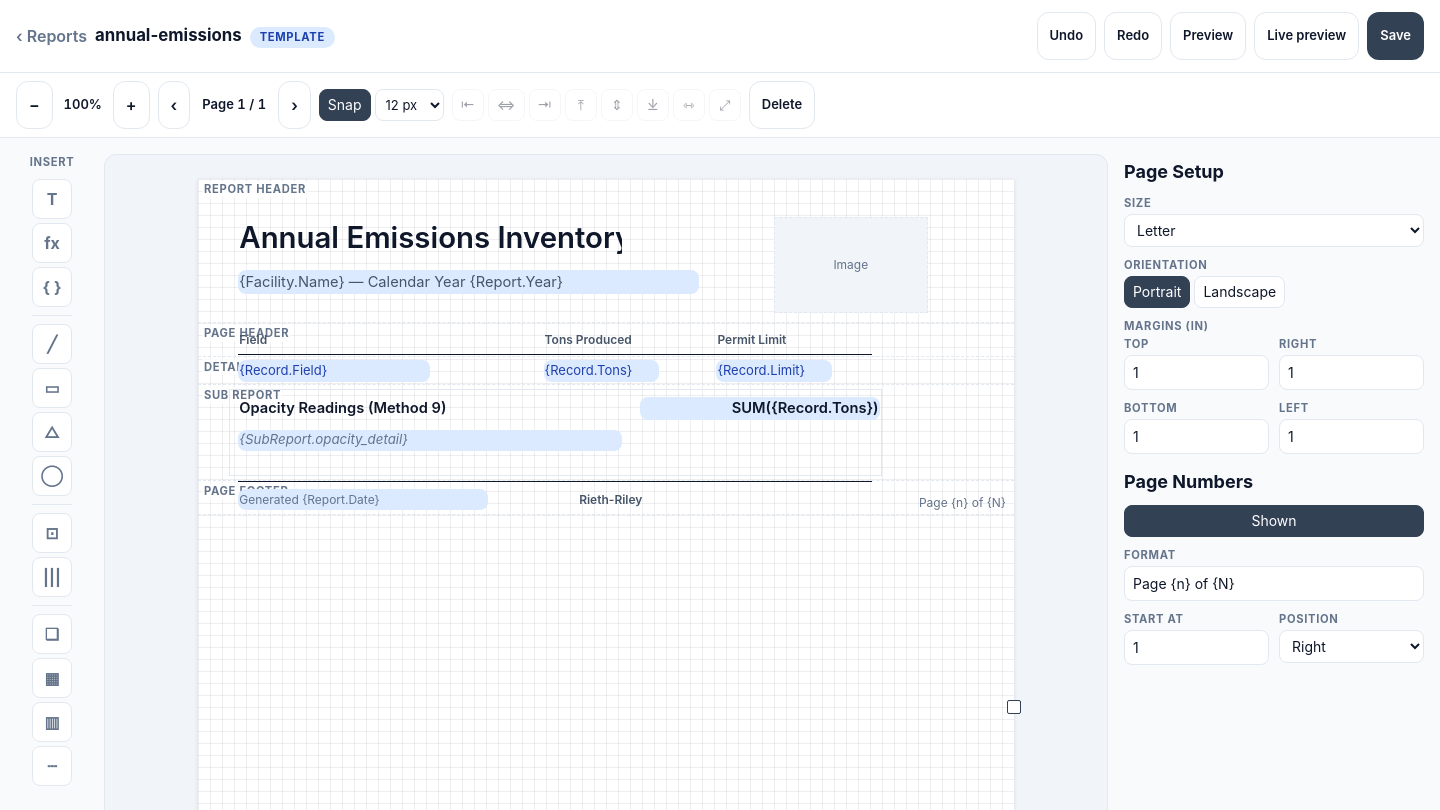
Test: ReportBuilderScreen — editing (Phase 4) › edits the selected element text and reflects it on the canvas
Click the button "Annual Emissions Inventory" at (430, 238), box x1=238 y1=221 x2=622 y2=254
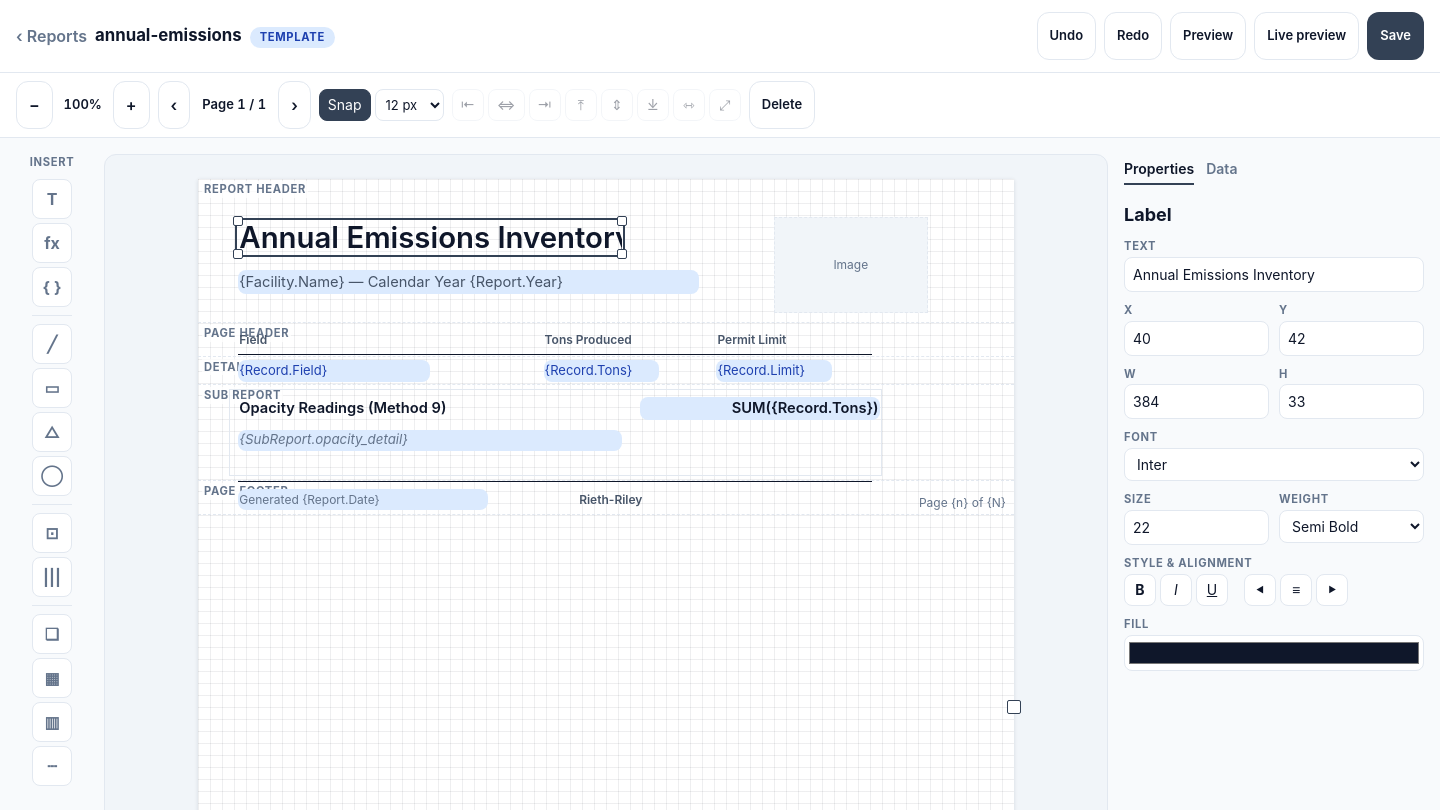
Replace the text in the field labelled "Text" with "Quarterly Report" at (1274, 274), box x1=1124 y1=257 x2=1424 y2=292
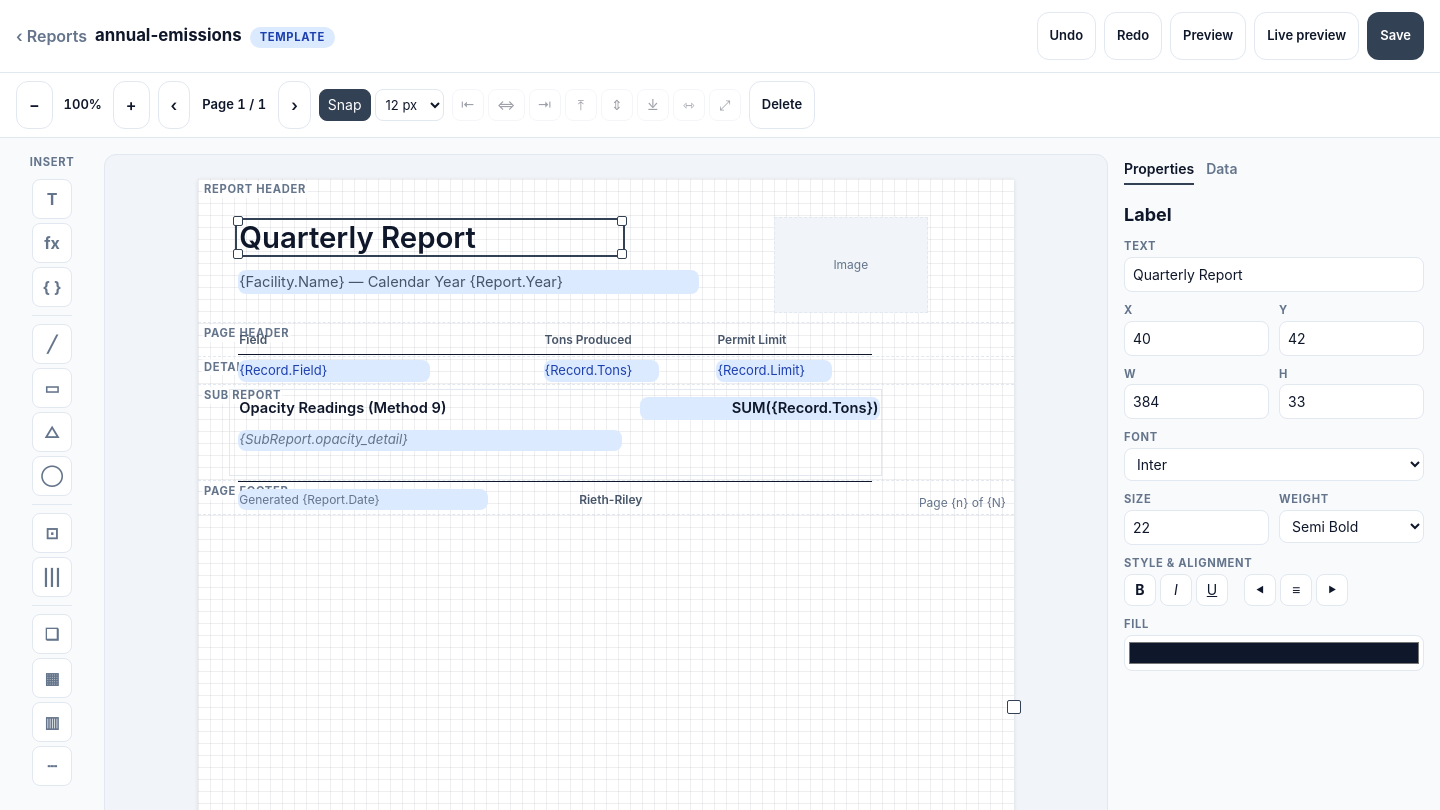
Check: the button "Quarterly Report" is shown, box x1=238 y1=221 x2=622 y2=254
Check: the button "Annual Emissions Inventory" is gone
